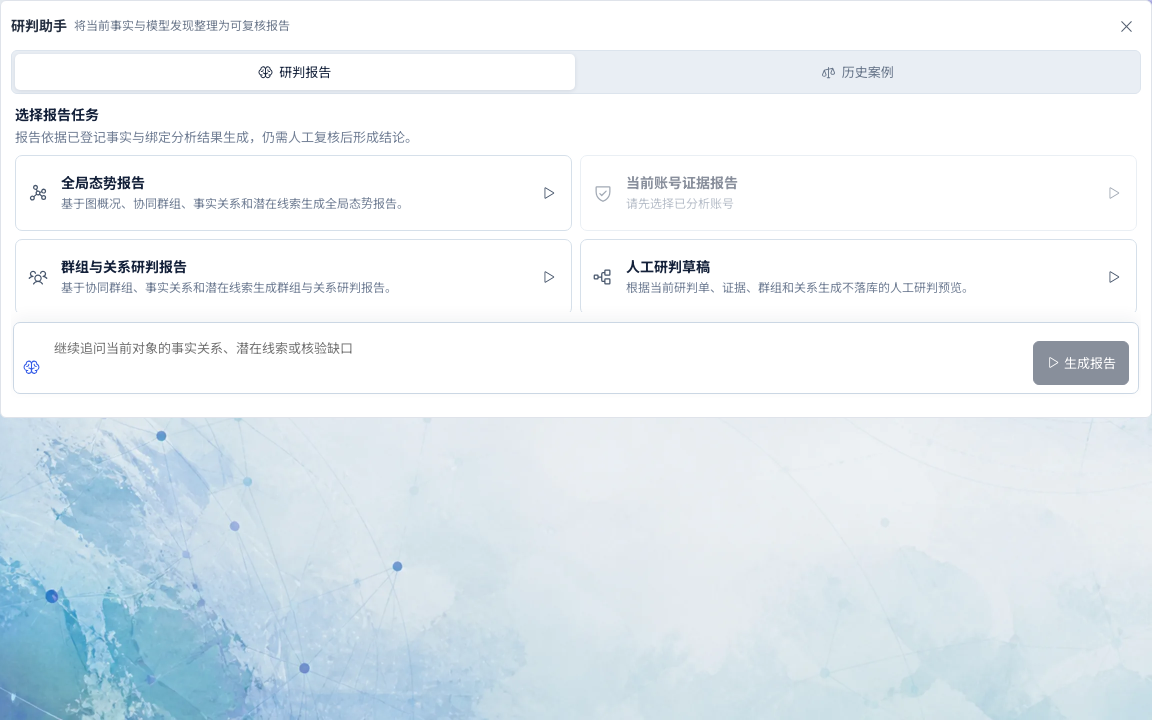
Scenario: governance report assistant › disables case-only retrieval for an empty review case
This screenshot has width=1152, height=720.
Click the tab "历史案例". click: (857, 72)
box: [578,54,1137,90]
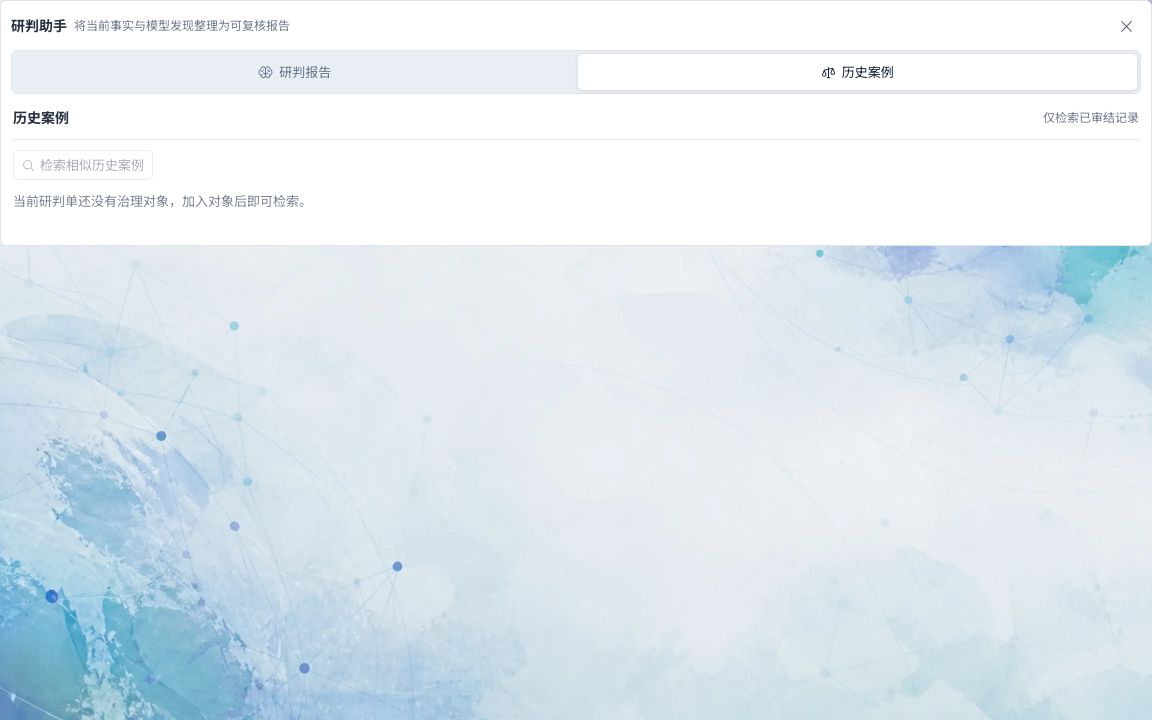
Expected: the button "检索相似历史案例" is disabled, [13,150,153,180]
Expected: the text "当前研判单还没有治理对象，加入对象后即可检索。" is shown, [13,193,312,209]
